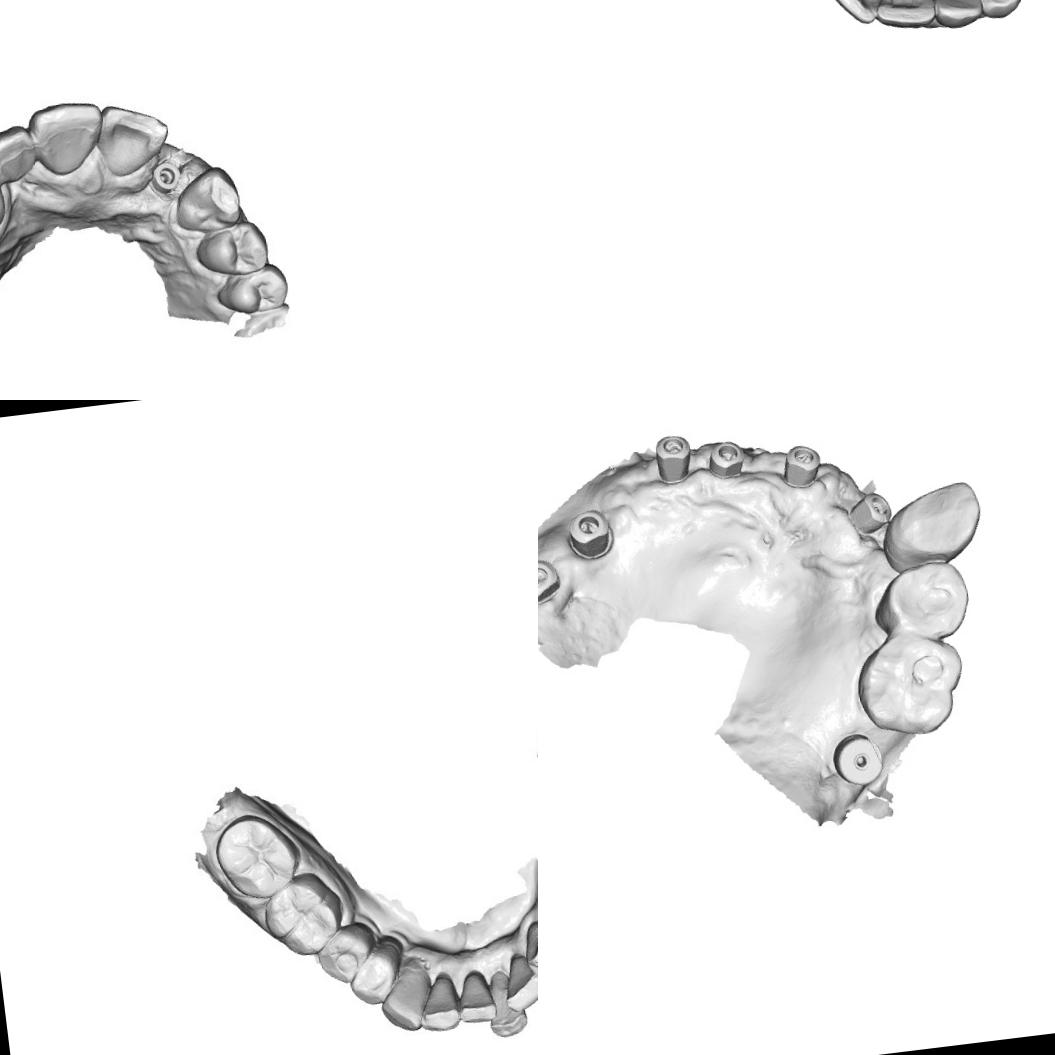canine: (879, 476, 987, 566), (170, 168, 245, 236), (373, 961, 434, 1043), (967, 0, 1029, 22), (525, 916, 538, 979)
implant: (560, 505, 612, 557), (832, 730, 882, 783), (650, 432, 693, 487), (846, 488, 894, 532), (780, 438, 824, 482), (703, 436, 745, 478), (150, 158, 186, 200), (538, 556, 560, 602)
incisor: (98, 101, 178, 171), (32, 97, 105, 172), (418, 972, 466, 1037), (0, 121, 43, 185), (487, 971, 527, 1036), (452, 966, 498, 1022), (870, 0, 939, 34), (501, 950, 538, 1010), (822, 0, 886, 30), (929, 0, 985, 31)
molar: (849, 626, 971, 743), (215, 814, 296, 898), (262, 876, 340, 953)
premolar: (866, 558, 973, 646), (192, 218, 272, 280), (215, 260, 293, 320), (347, 945, 404, 1006), (318, 927, 374, 984)
